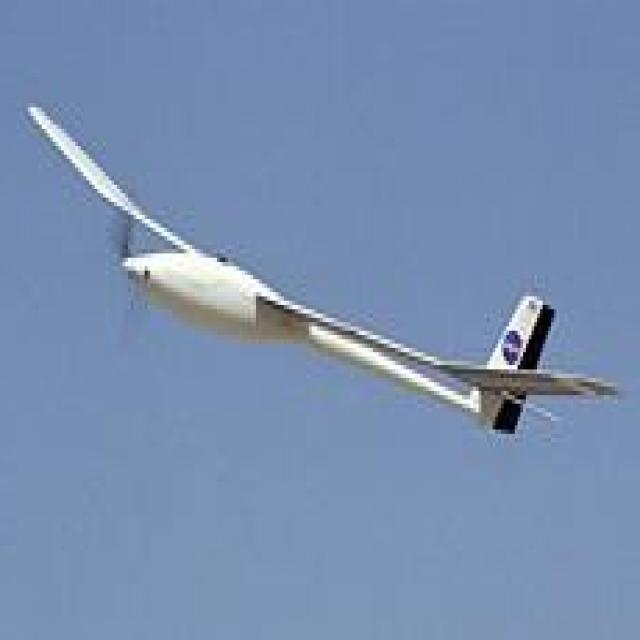UAV: (13, 234, 552, 416)
